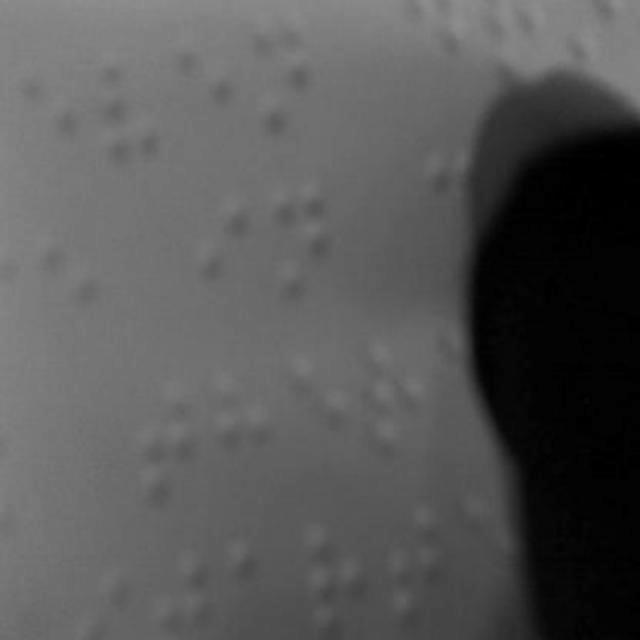braiile: (210, 371, 282, 509), (270, 180, 336, 330), (249, 18, 315, 164), (186, 195, 254, 335), (365, 336, 435, 472), (290, 354, 358, 488), (304, 512, 374, 640), (139, 382, 205, 516), (172, 46, 235, 180), (389, 503, 455, 627), (89, 55, 159, 168), (18, 76, 80, 196)
